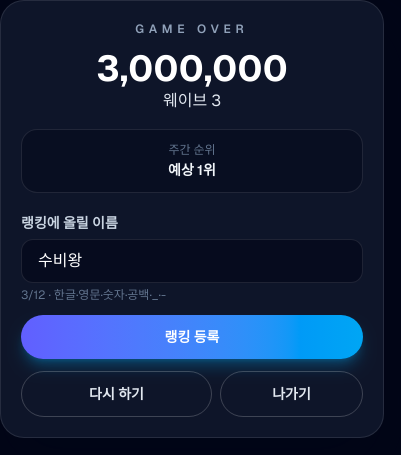
Test case: ScoreSubmitPanel — 게임 사양·보드를 따른다 › 보드가 없으면 랭킹 링크는 highlight만(테트리스 URL 불변), 기간을 하나만 주면 그 기간만 조회·표시, 다시보기 끄기
The width and height of the screenshot is (401, 455).
expect the text "주간 순위" is shown: met, box [168, 142, 216, 158]
What coordinates should you click on to do the following:
click the button "랭킹 등록"
I would click on:
 (192, 337)
Its box is [21, 315, 363, 359].
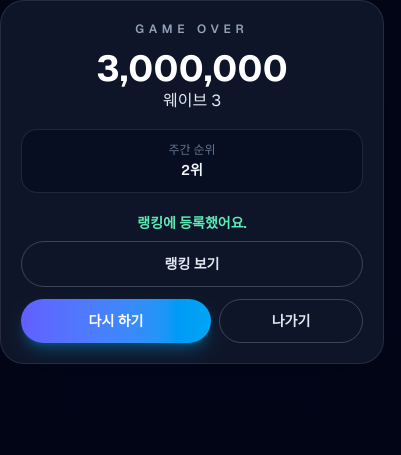
expect the text "2위" is shown: met, box [181, 161, 203, 179]
